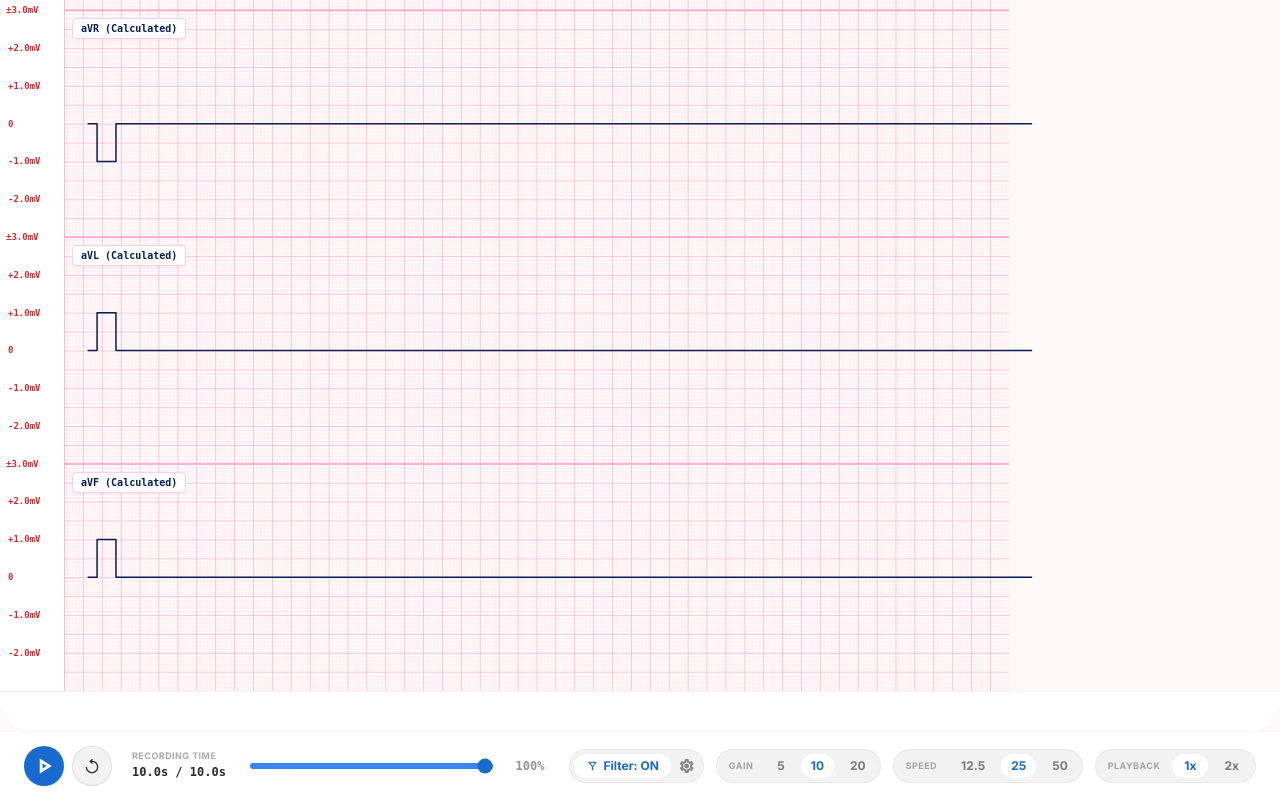
Test: EcgViewer Component Integration › should toggle play and pause states on click
The image size is (1280, 800).
(page scrolled)
Click play
Click the button titled "Play".
click(44, 766)  # box [24,746,64,786]
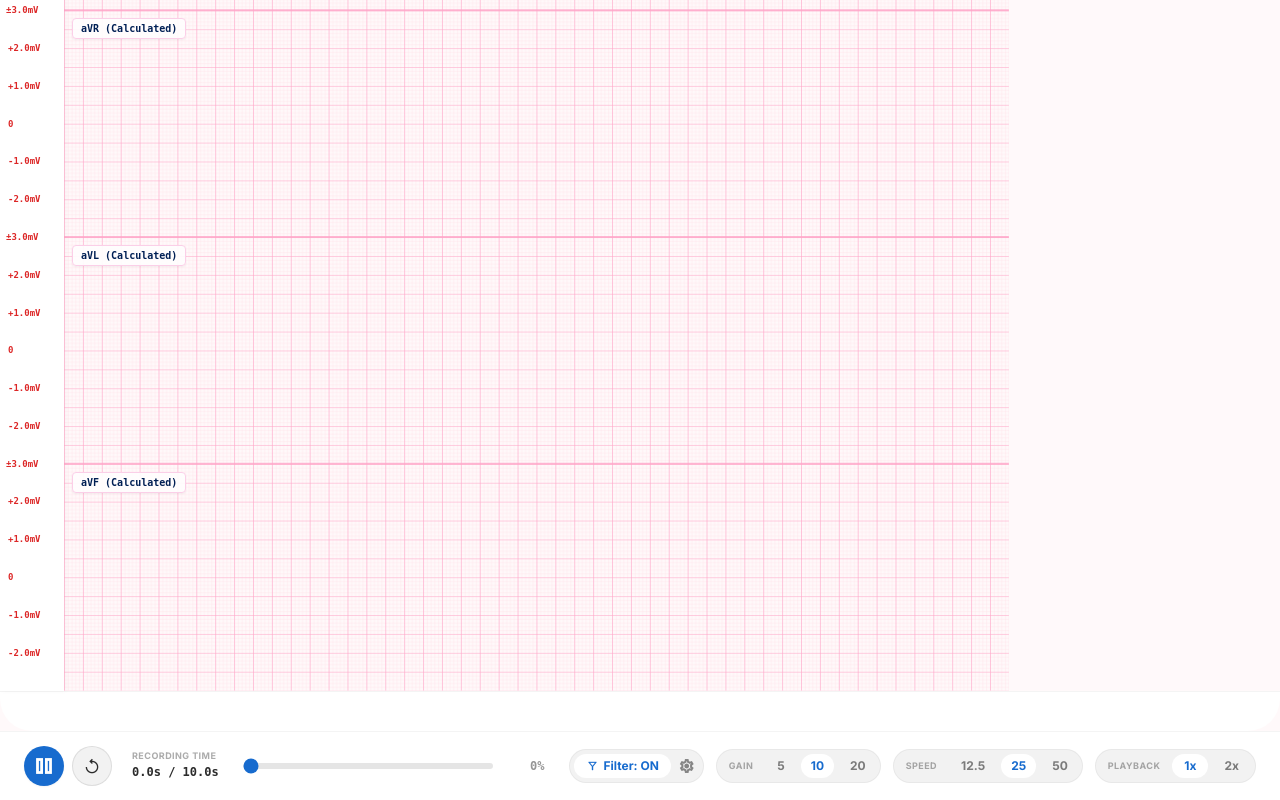
Result: the button titled "Pause" is shown
Click pause
Click the button titled "Pause".
click(44, 766)  # box [24,746,64,786]
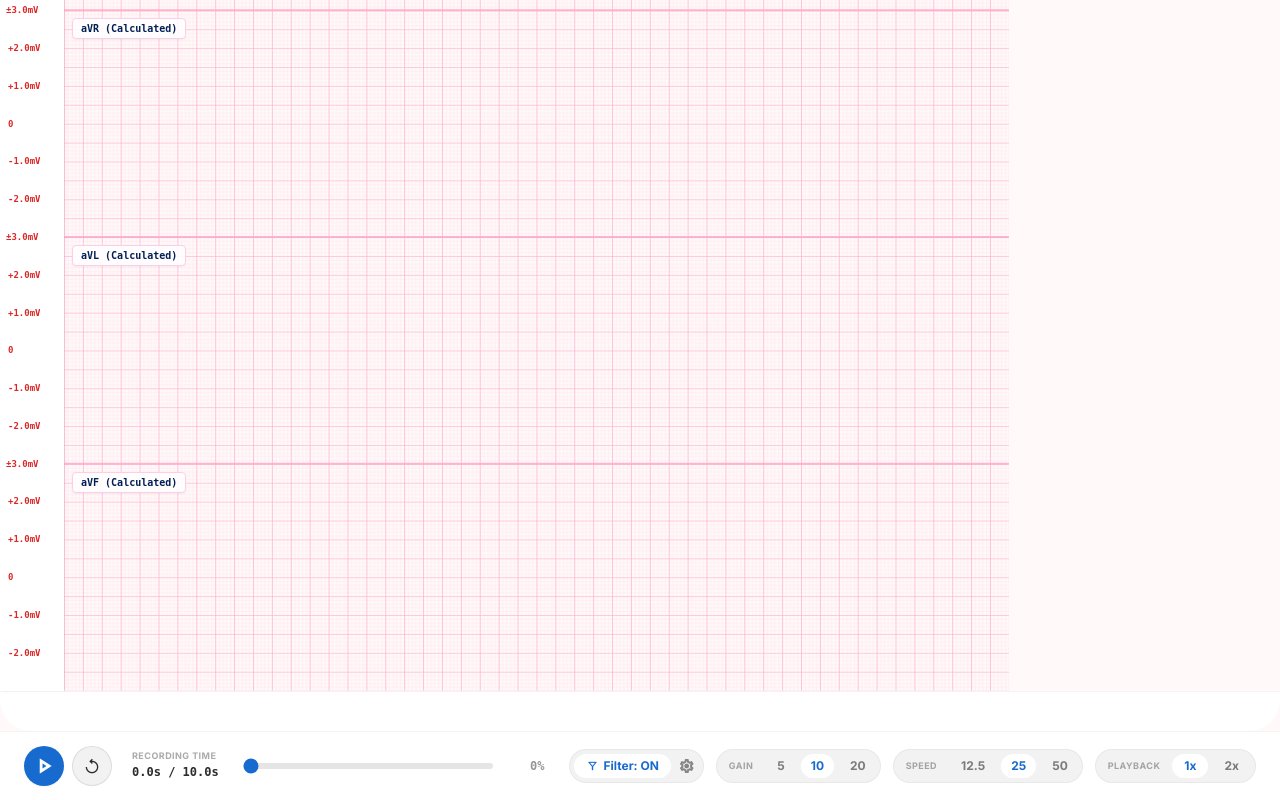
Result: the button titled "Play" is shown at [24,746,64,786]
